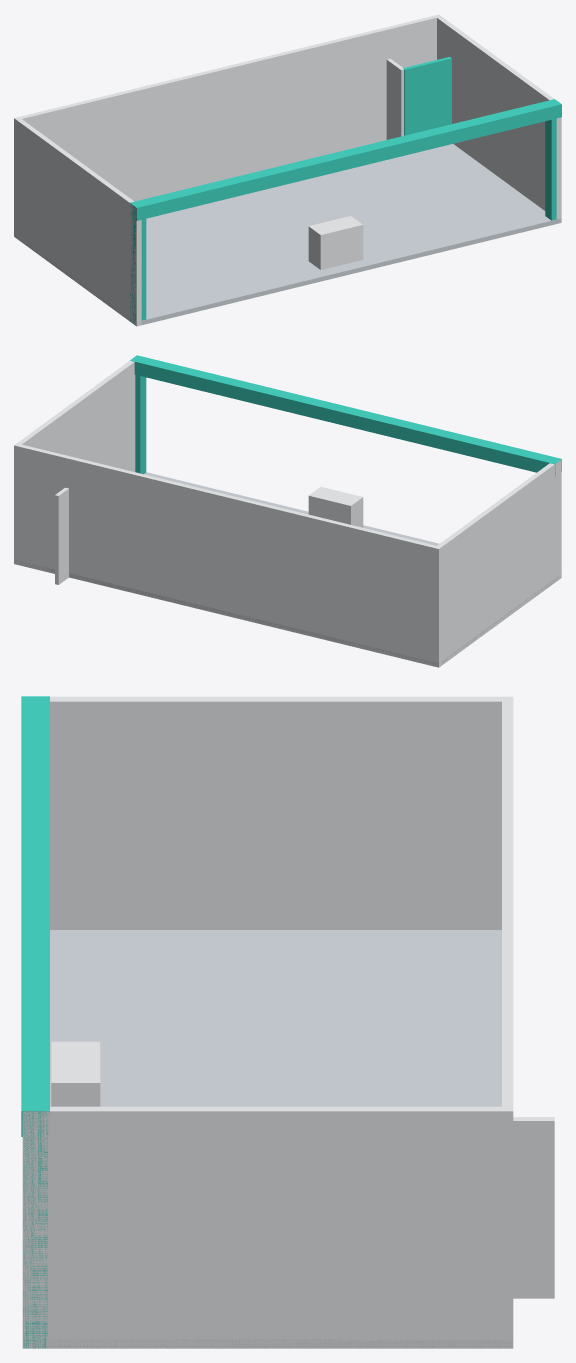
The picture shows the model from 3 angles, top to bottom: view 1: azimuth 30°, elevation 25°; view 2: azimuth 150°, elevation 25°; view 3: azimuth 270°, elevation 25°; orthographic projection. The views are drawn at different scales.
Parts seen in each view (by area): view 1: Exhibition Booth Concept; view 2: Exhibition Booth Concept; view 3: Exhibition Booth Concept.
Part boxes in pixels (<box>): Exhibition Booth Concept: <box>14,14,561,326</box>; Exhibition Booth Concept: <box>14,355,561,667</box>; Exhibition Booth Concept: <box>21,696,554,1348</box>.
Size of the model in its own units: 12 by 3.2 by 6.52.
